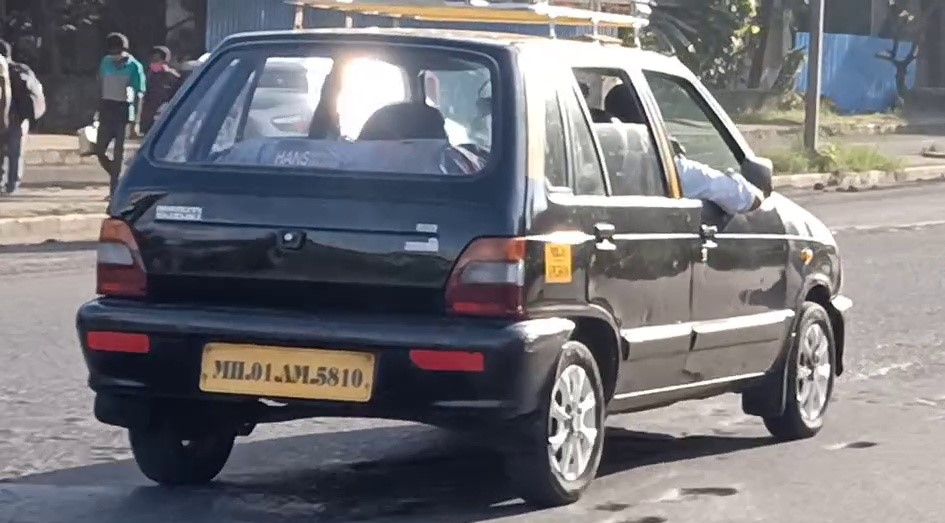MH01AM5810: (198, 340, 376, 402)
